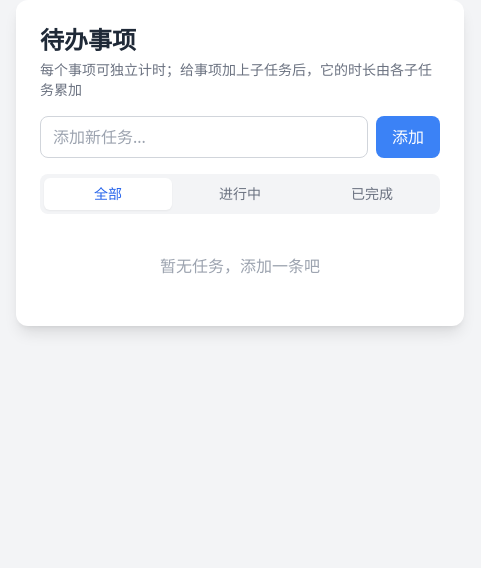
Test: 子任务可收起 / 展开，默认展开
Type "408" into the field with placeholder "添加新任务...".
click(204, 137); type("408")  # box left=40, top=116, right=368, bottom=158
Then press Enter
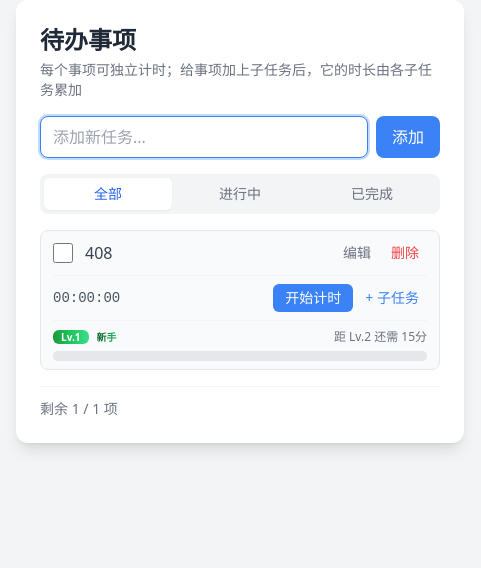
Check: the text "408" is shown, box left=85, top=242, right=112, bottom=264
Click the button with aria-label "添加子任务".
click(392, 298)  # box left=357, top=284, right=427, bottom=312
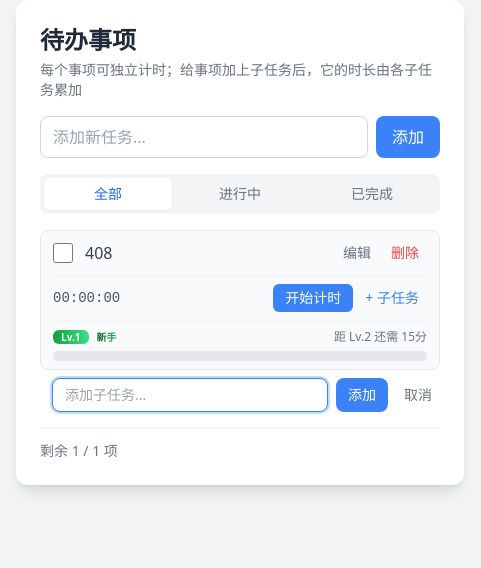
Type "操作系统" into the field with placeholder "添加子任务...".
click(190, 395); type("操作系统")  # box left=52, top=378, right=328, bottom=412
Then press Enter
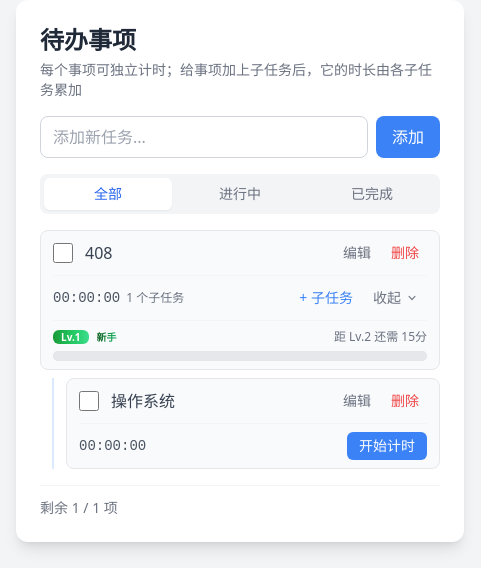
Check: the text "操作系统" is shown, box left=111, top=390, right=175, bottom=412
Click the button "收起".
click(396, 298)  # box left=365, top=284, right=427, bottom=312
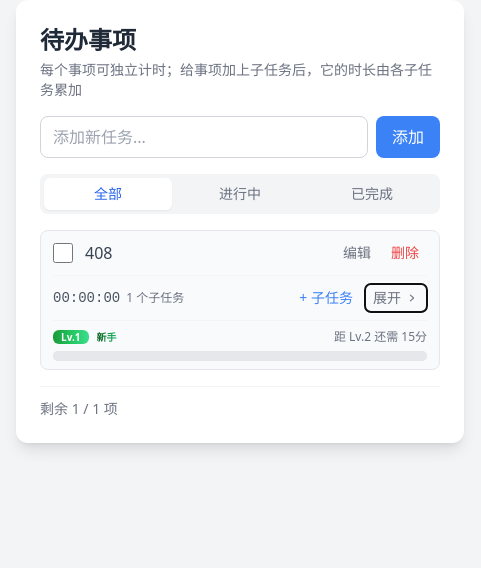
Check: the text "408" is shown, box left=85, top=242, right=112, bottom=264
Check: the text "1 个子任务" is shown, box left=126, top=290, right=184, bottom=306
Check: the text "操作系统" is gone
Click the button "展开".
click(396, 298)  # box left=365, top=284, right=427, bottom=312
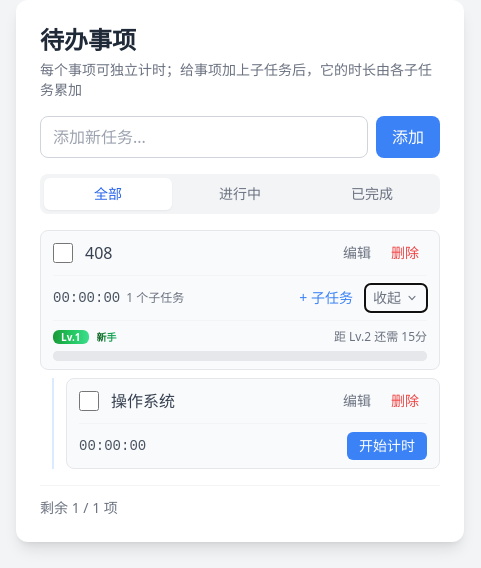
Check: the text "操作系统" is shown, box left=111, top=390, right=175, bottom=412
